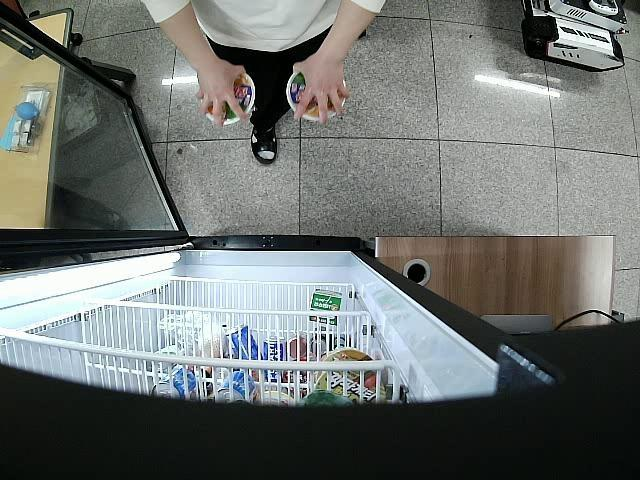09_yukGaeJang: (198, 73, 255, 126), (288, 72, 346, 121)
